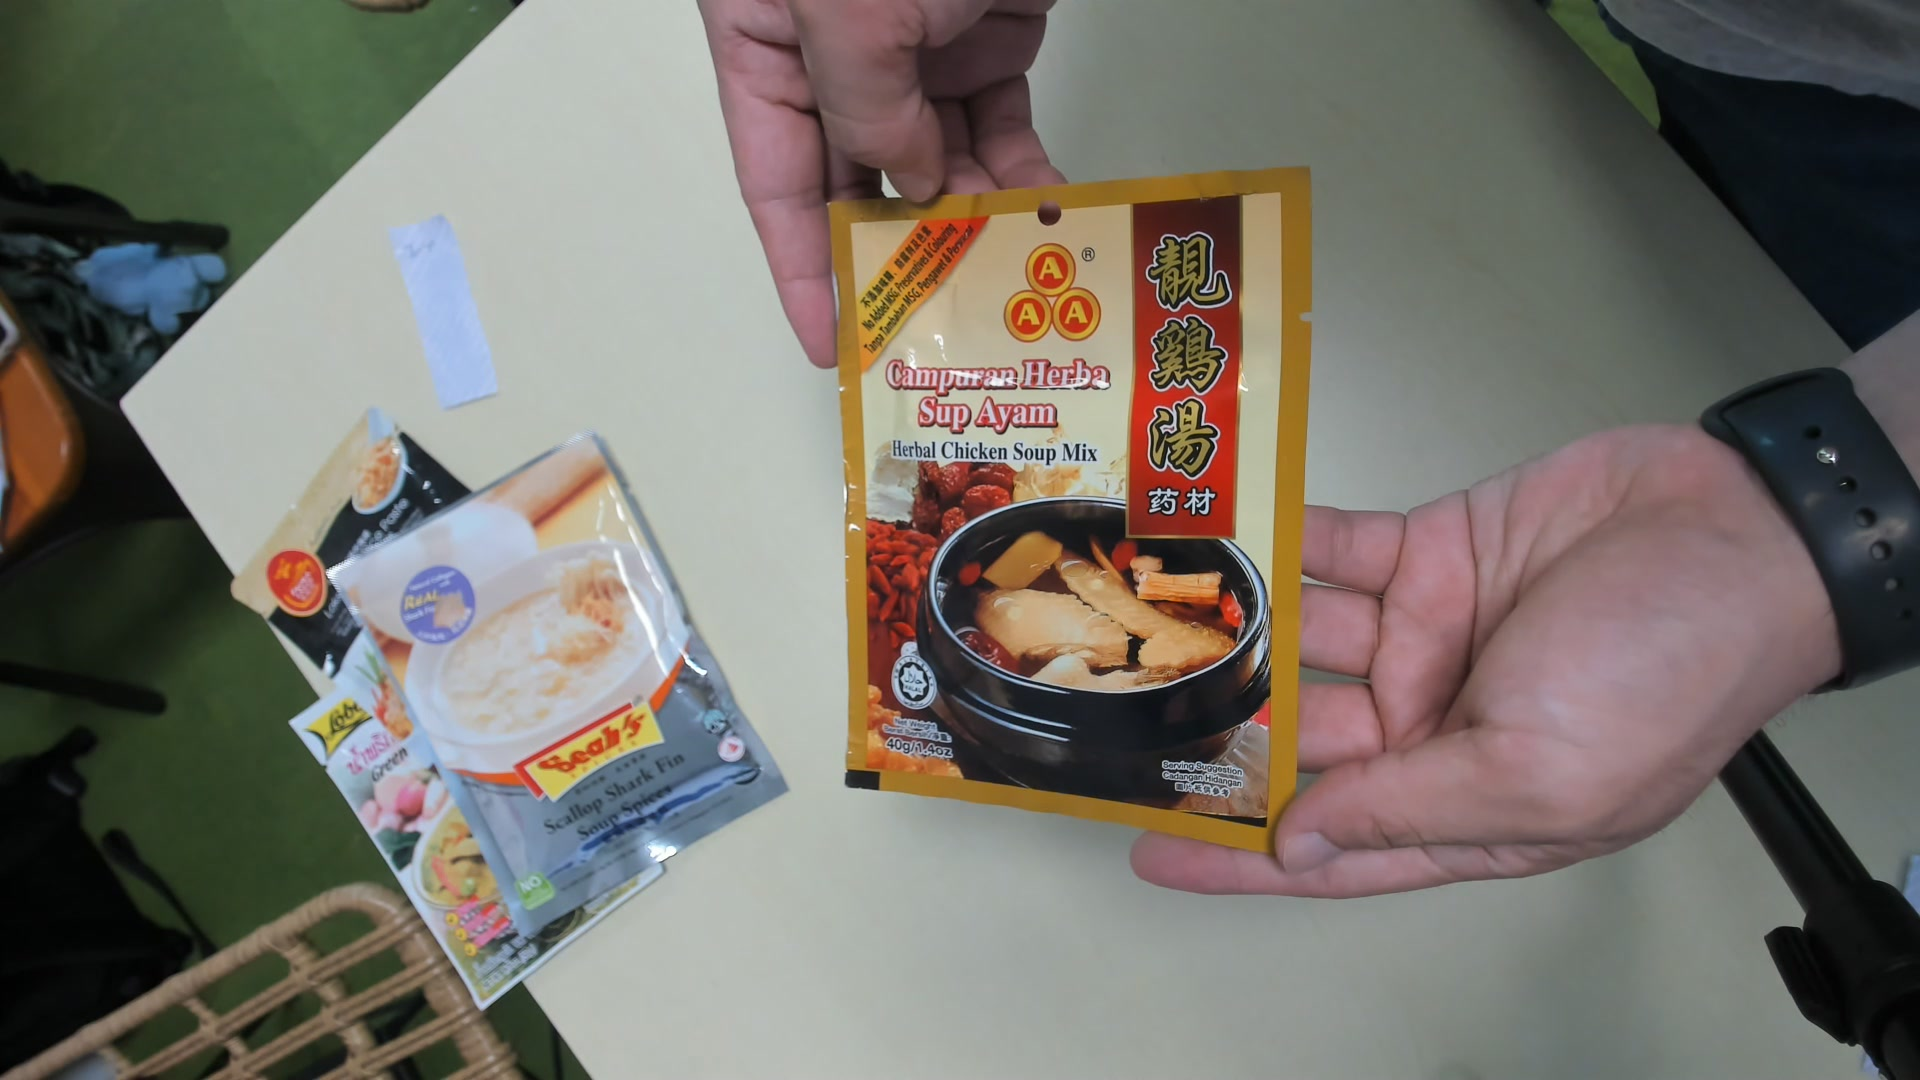OtherSauceDressing_0-99g_Halal_NonHealthy: (829, 178, 1305, 860)
